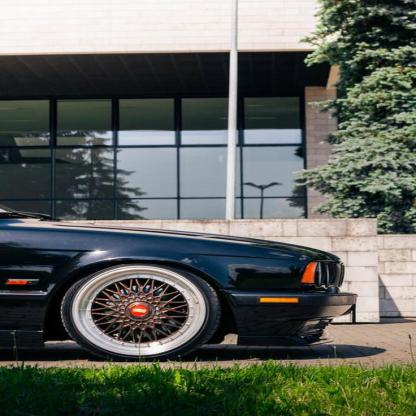Tire: (58, 260, 225, 365)
